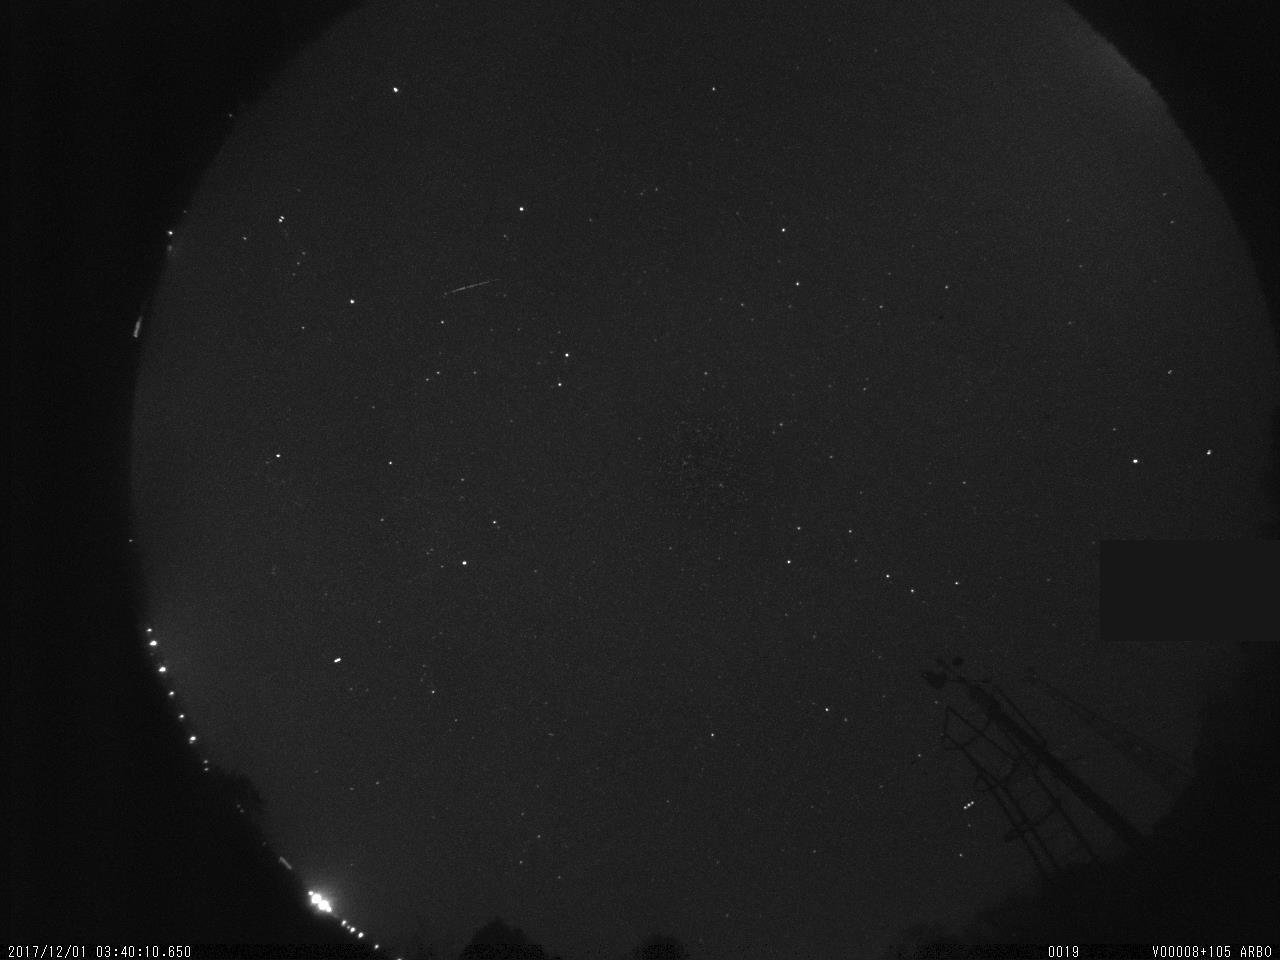meteor: (430, 272, 524, 302)
